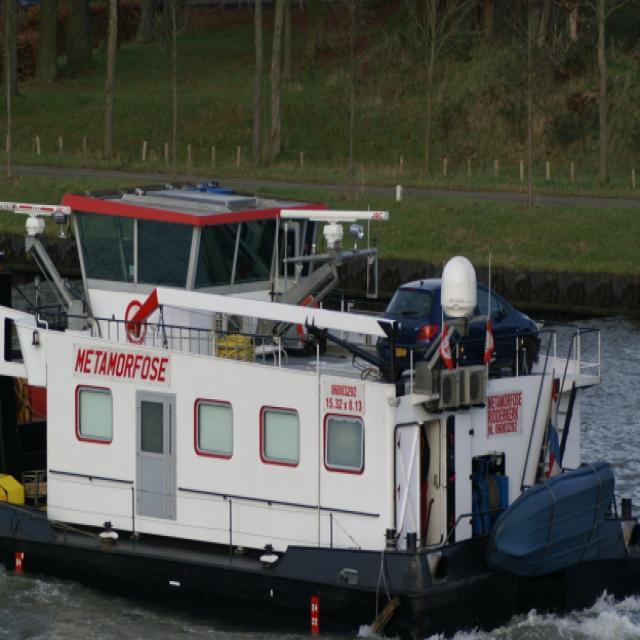tugboat: (1, 172, 640, 640)
